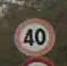limite 40: (10, 18, 57, 57)
